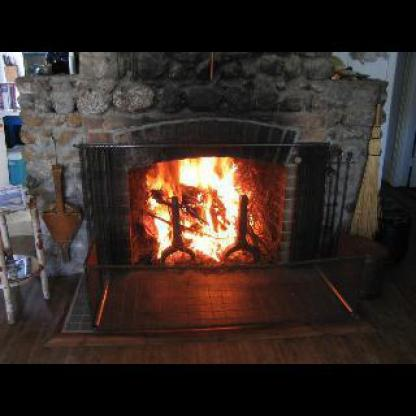Fire: (142, 158, 260, 262)
